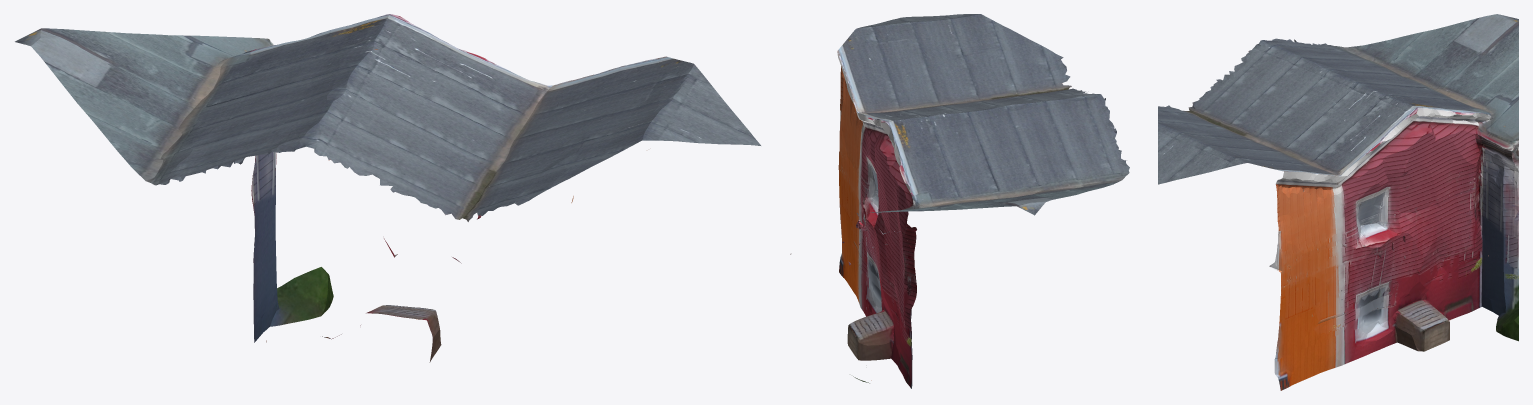
3 views of the same model, side by side, from view 1: azimuth 30°, elevation 25°; view 2: azimuth 150°, elevation 25°; view 3: azimuth 270°, elevation 25° (orthographic). The views are drawn at different scales.
Size of the model in its own units: 8.36 by 5.86 by 8.36.
Materials: 3 (3 with a texture image).
